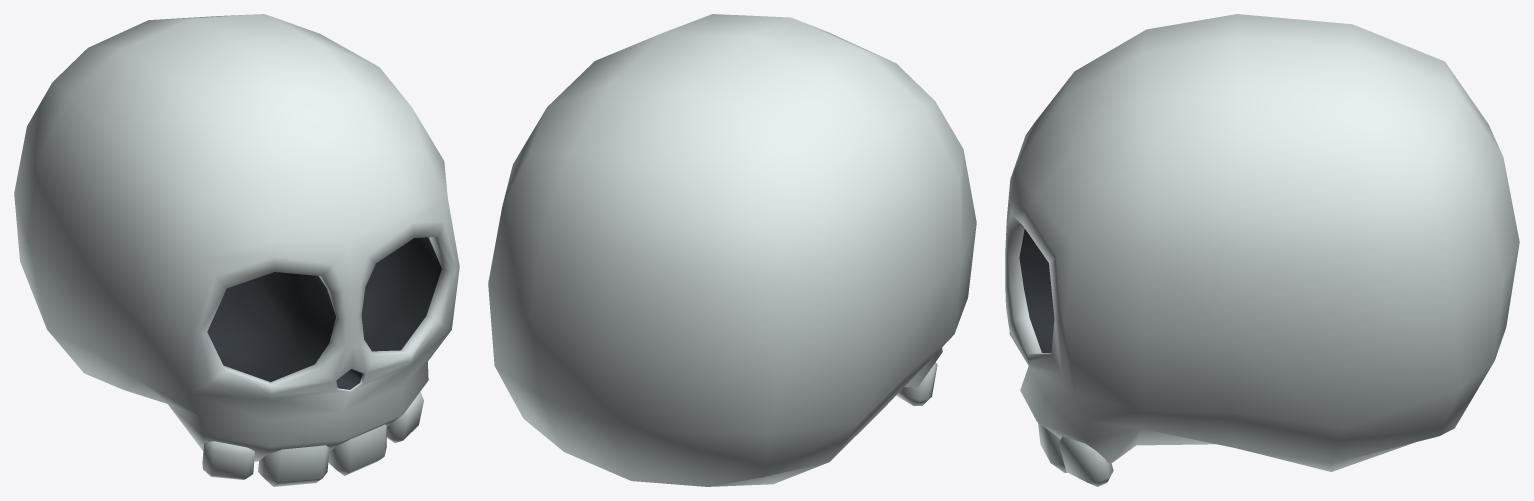
Rendered from skull_head_01.fbx.
3 views of the same model, side by side, from view 1: azimuth 30°, elevation 25°; view 2: azimuth 150°, elevation 25°; view 3: azimuth 270°, elevation 25° (orthographic). The views are drawn at different scales.
Visible parts, largest first — view 1: skull_head_01; view 2: skull_head_01; view 3: skull_head_01.
Boxes of the visible parts, <box> form: skull_head_01: <box>14,14,459,486</box>; skull_head_01: <box>488,14,976,486</box>; skull_head_01: <box>1005,14,1519,486</box>.
Size of the model in its own units: 0.3317 by 0.3519 by 0.3996.
2 materials, 2 textured.
